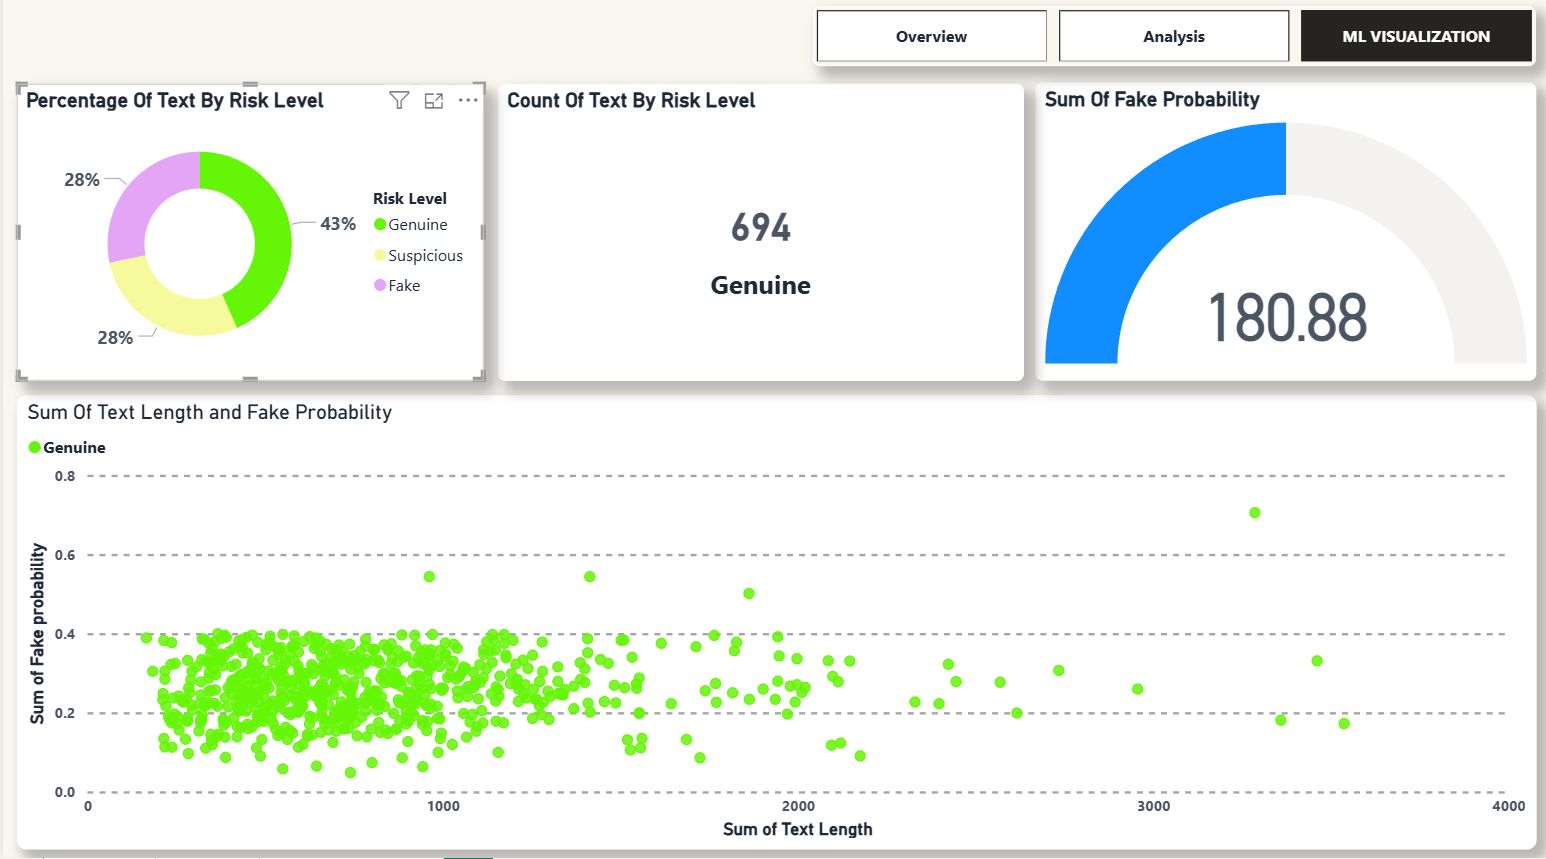

What the dashboard file says about the page in this screenshot:
{"tool":"powerbi","page":{"name":"ML VISUALIZATION","canvas":[1280,720],"ordinal":2},"visuals":[{"type":"scatterChart","title":"Sum Of Text Length and Fake Probability","fields":{"X":["Sum(output.Text Length)"],"Y":["Sum(output.fake_probability)"],"Series":["output.Risk Level"],"Category":["output.text"]},"box":[11.4,335.8,1260,376.7],"z":0},{"type":"donutChart","title":"Percentage Of Text By Risk Level","fields":{"Category":["output.Risk Level"],"Y":["CountNonNull(output.text)"]},"box":[11.3,77.9,387.3,246.2],"z":1000},{"type":"gauge","title":"Sum Of Fake Probability","fields":{"Y":["Sum(output.fake_probability)"]},"box":[855.9,76.3,415.4,247],"z":2000},{"type":"pageNavigator","box":[671.8,13.5,599.6,49.7],"z":3000},{"type":"kpi","title":"Count Of Text By Risk Level","fields":{"TrendLine":["output.Risk Level"],"Indicator":["CountNonNull(output.text)"]},"box":[409.9,77.9,435.9,246.2],"z":4000}]}

Visuals, with their boxes in screenshot pixels (x1, y1, x2, y2), scaled from the page's 1280x720 canvas onto the 1546x859 screenshot:
"Sum Of Text Length and Fake Probability" scatterChart: 14 401 1536 850
"Percentage Of Text By Risk Level" donutChart: 14 93 481 387
"Sum Of Fake Probability" gauge: 1034 91 1535 386
pageNavigator: 811 16 1536 75
"Count Of Text By Risk Level" kpi: 495 93 1022 387
